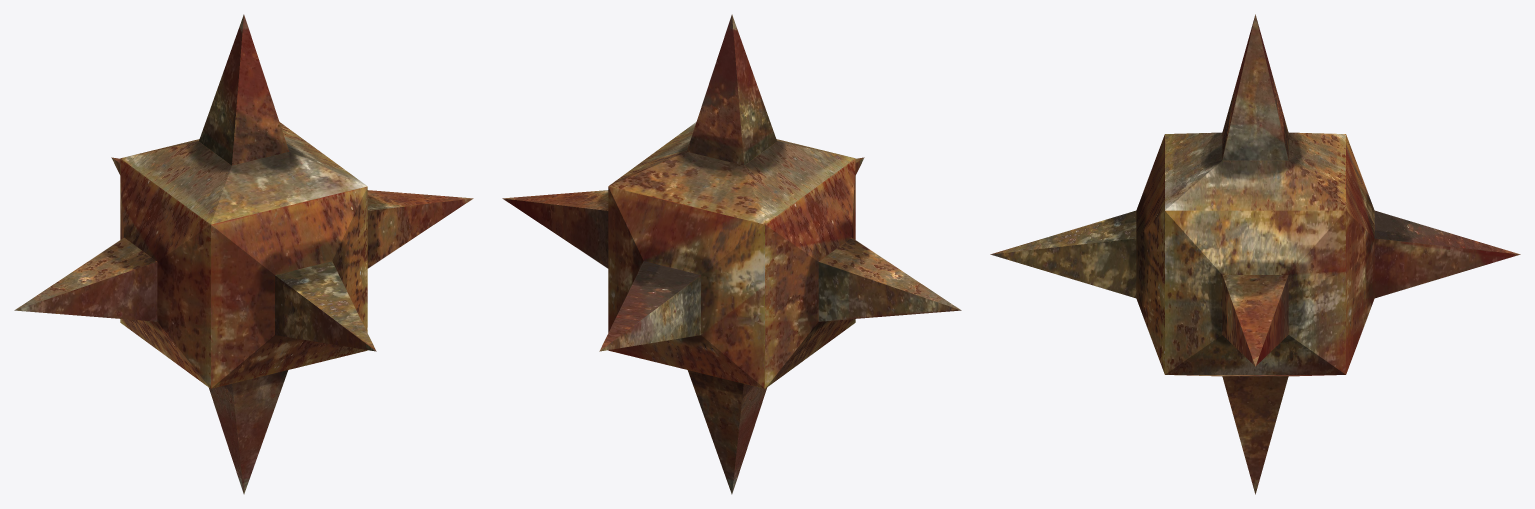
Rendered from pico.fbx.
3 renders of one model, left to right at view 1: azimuth 30°, elevation 25°; view 2: azimuth 150°, elevation 25°; view 3: azimuth 270°, elevation 25°, orthographic.
Parts seen in each view (by area): view 1: Pinche; view 2: Pinche; view 3: Pinche.
Boxes of the visible parts, x1,y1,x2,y2 form: Pinche: (14, 14, 473, 494); Pinche: (502, 14, 961, 494); Pinche: (990, 14, 1520, 494).
Bounding box in the file's own units: 1028 × 1028 × 1028.
1 material, 1 textured.
